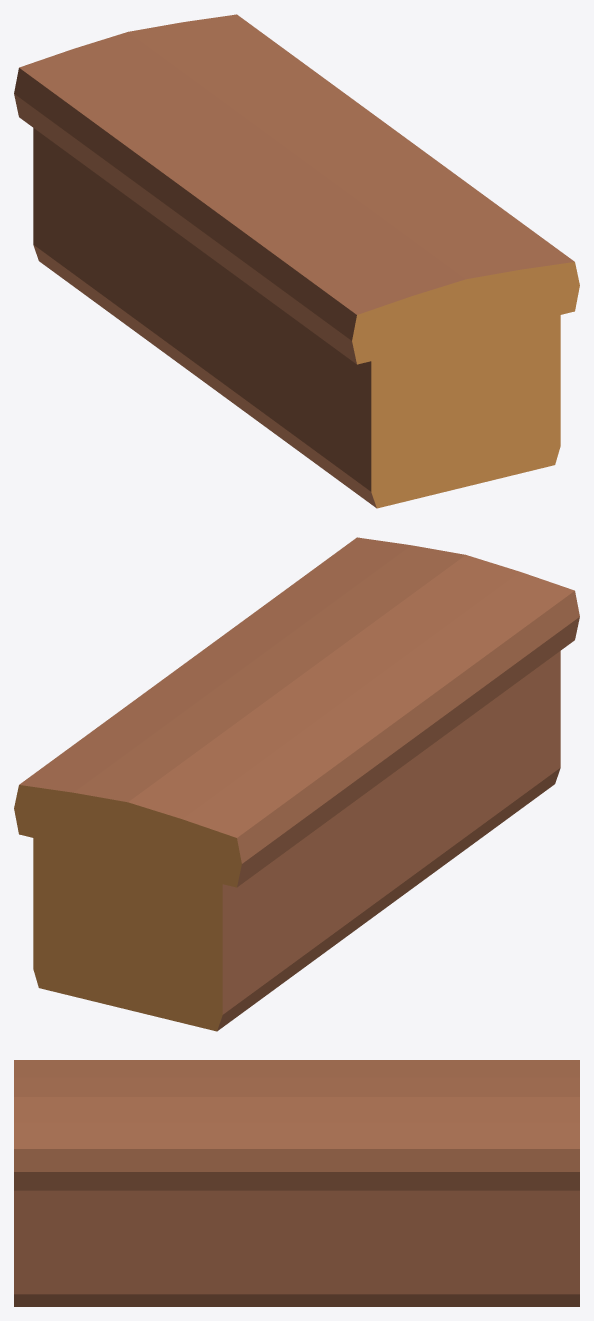
The model's file is Bread.fbx.
The picture shows the model from 3 angles, top to bottom: view 1: azimuth 30°, elevation 25°; view 2: azimuth 150°, elevation 25°; view 3: azimuth 270°, elevation 25°; orthographic projection. The views are drawn at different scales.
Parts seen in each view (by area): view 1: Plane; view 2: Plane; view 3: Plane.
Boxes of the visible parts, x1,y1,x2,y2 form: Plane: (14,14,579,508); Plane: (14,537,579,1031); Plane: (14,1060,579,1306).
Bounding box in the file's own units: 241 × 209 × 618.
